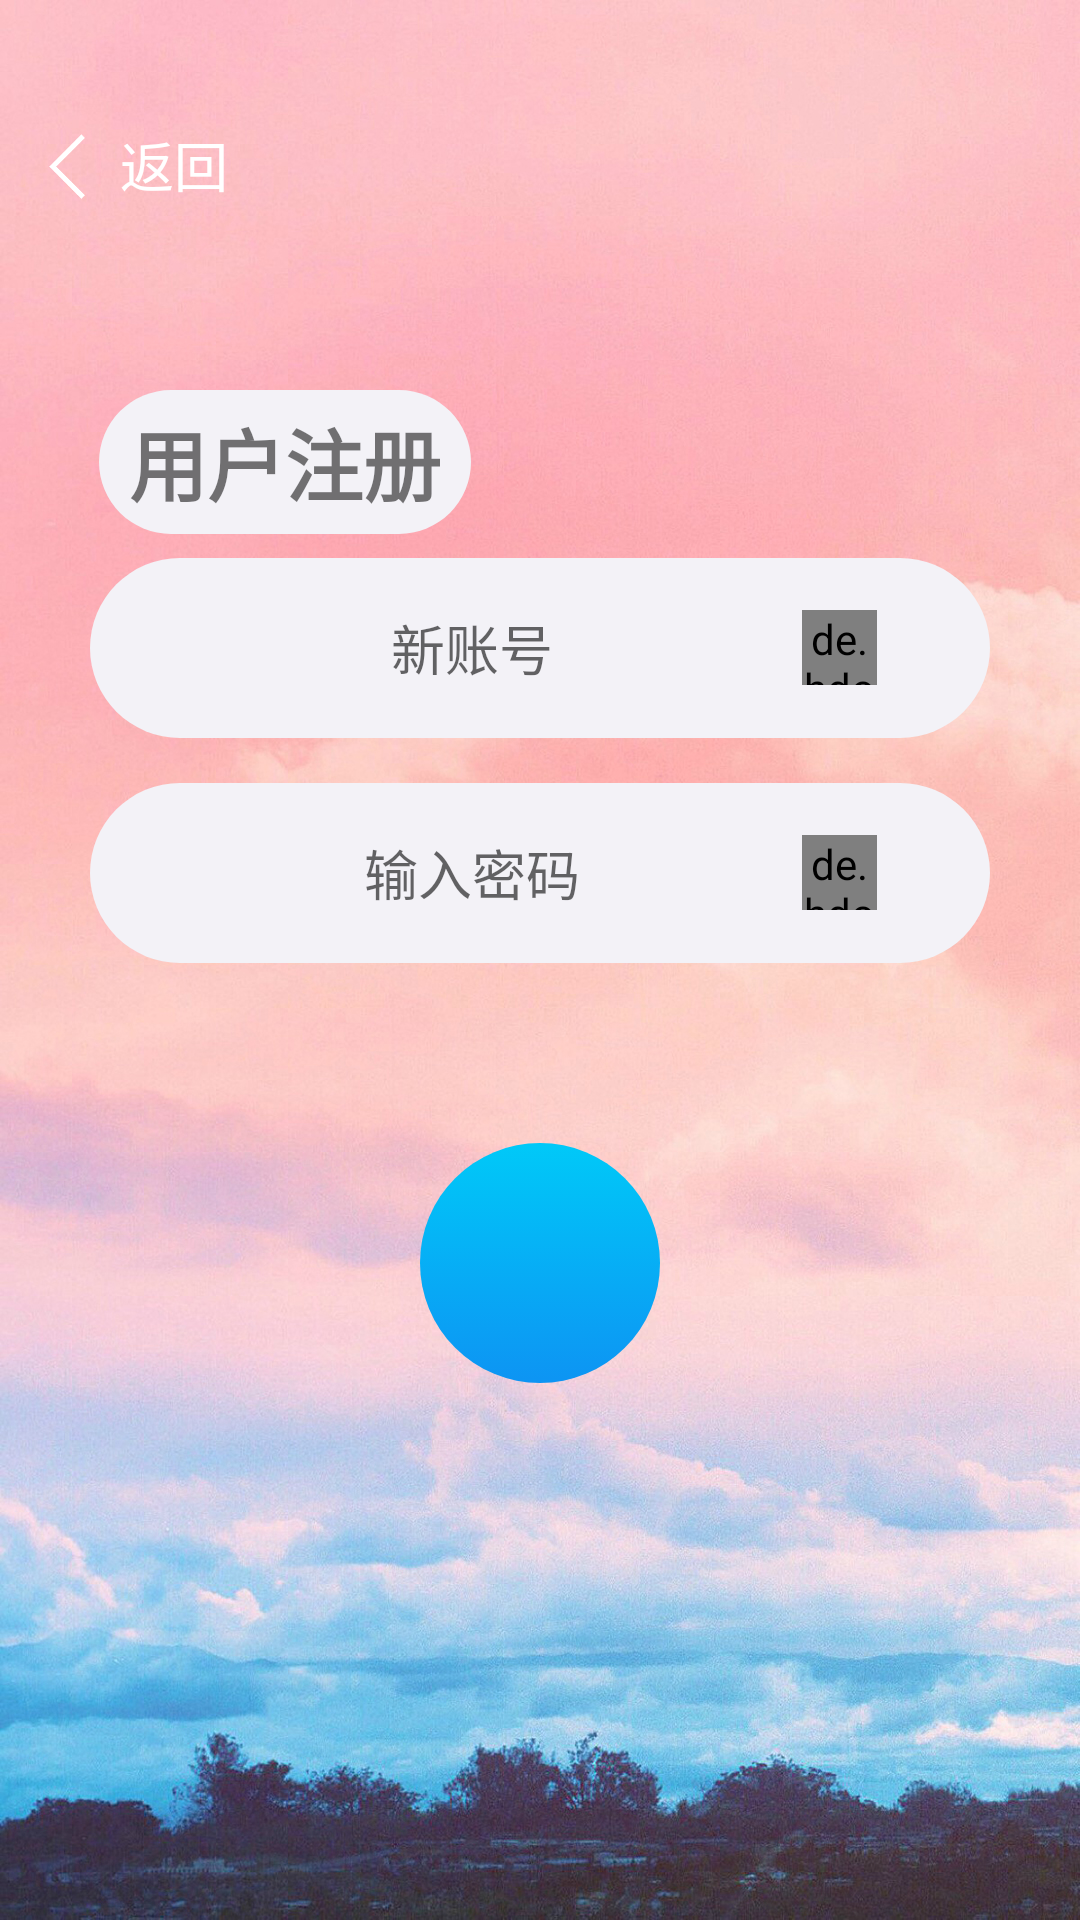

Where icons sit on this 1080px×1920px app screen, as detection(x1, y1, x2, y2):
back: detection(49, 134, 85, 199)
